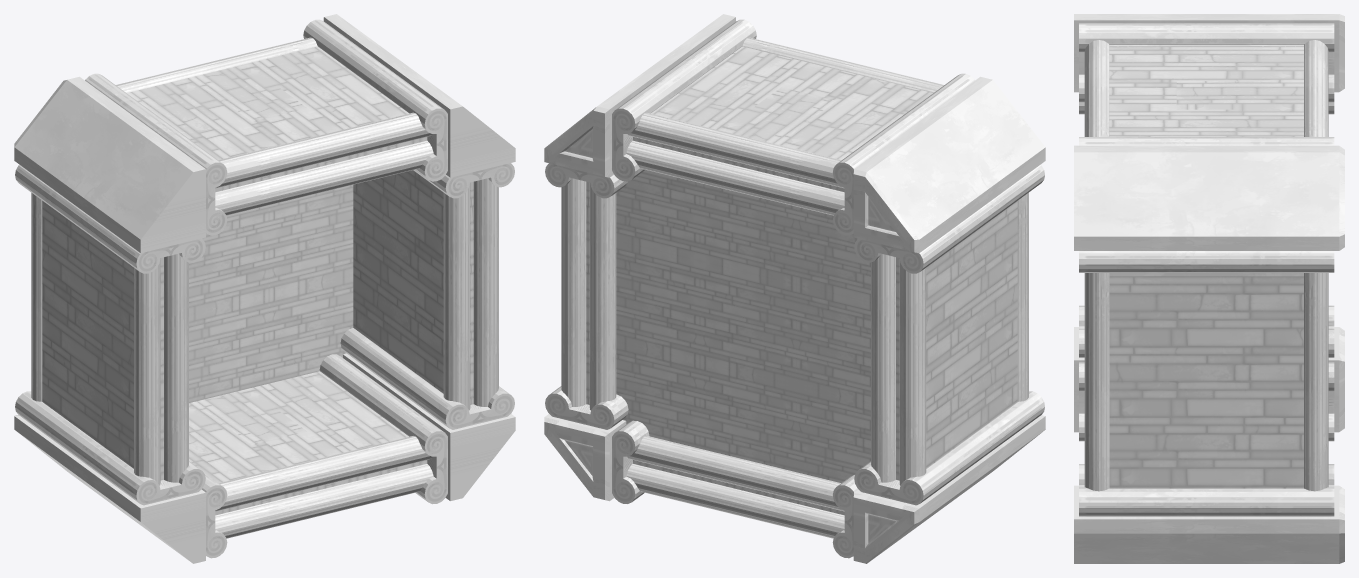
Rendered from BlockedRooms.fbx.
3 views of the same model, side by side, from view 1: azimuth 30°, elevation 25°; view 2: azimuth 150°, elevation 25°; view 3: azimuth 270°, elevation 25° (orthographic). The views are drawn at different scales.
Visible parts, largest first — view 1: Plane.002; view 2: Plane.002; view 3: Plane.002.
Part boxes in pixels (left/top/right/bottom): Plane.002: left=14, top=14, right=515, bottom=563; Plane.002: left=544, top=14, right=1045, bottom=563; Plane.002: left=1074, top=14, right=1344, bottom=563.
Size of the model in its own units: 5496 by 5482 by 3240.
1 material, 1 textured.
